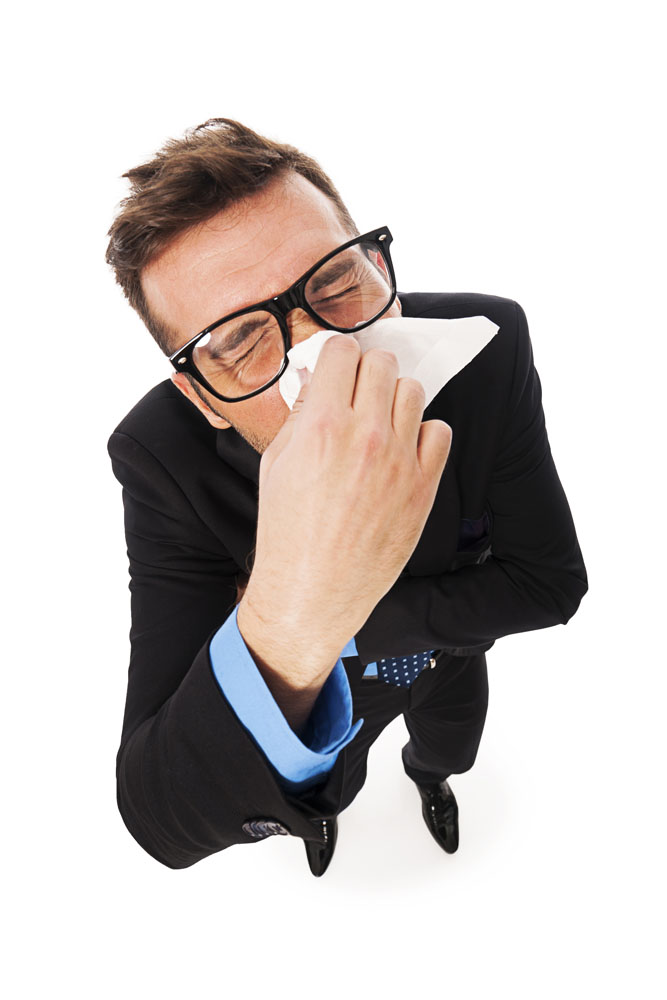face: (168, 182, 406, 513)
